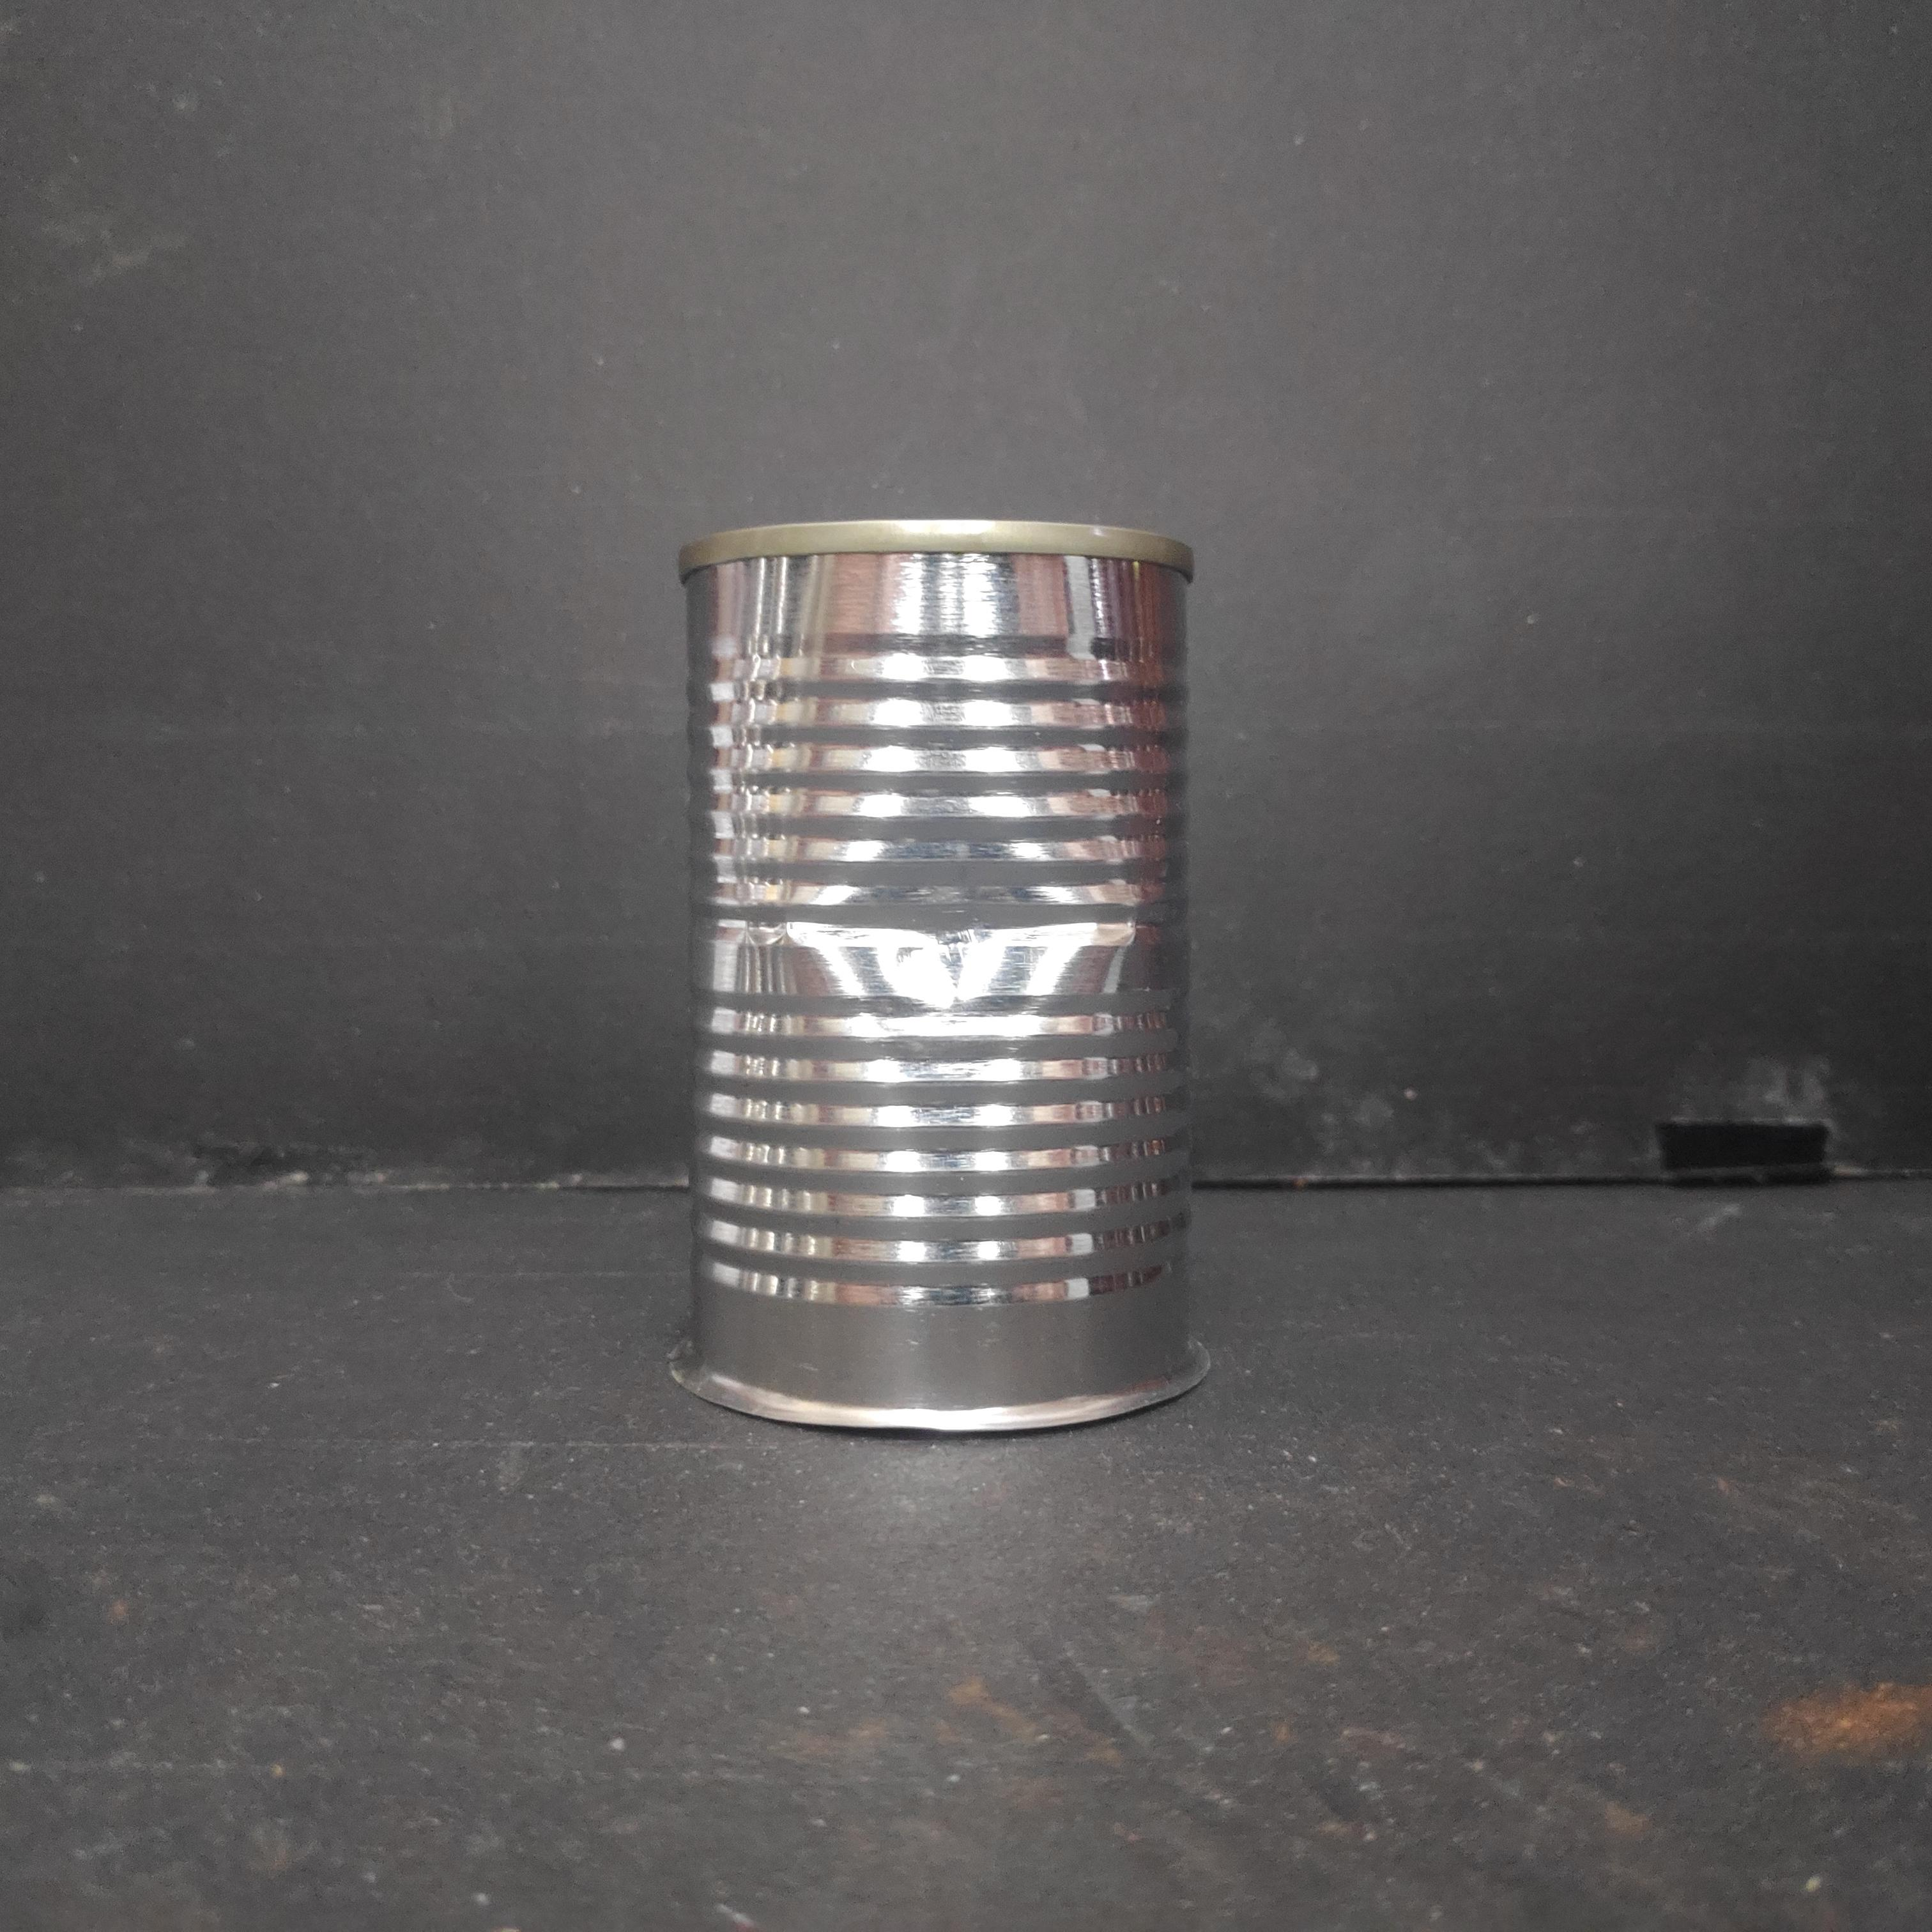Minor Defect: (669, 509, 1215, 1445)
